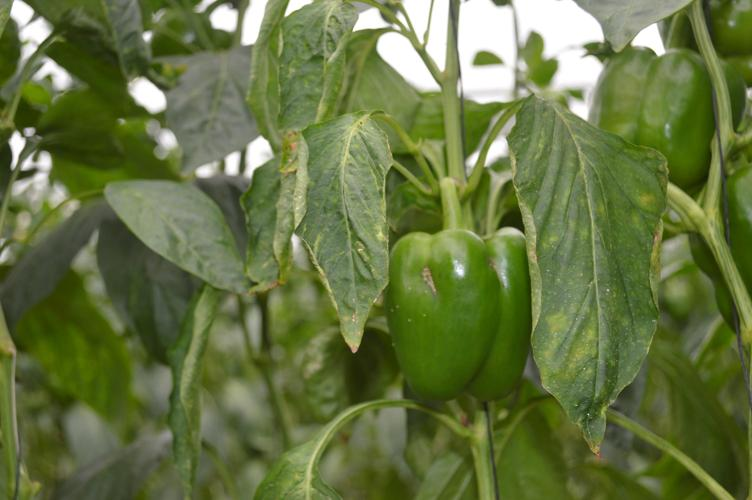BellPepper: (381, 229, 526, 397), (590, 44, 741, 182)
